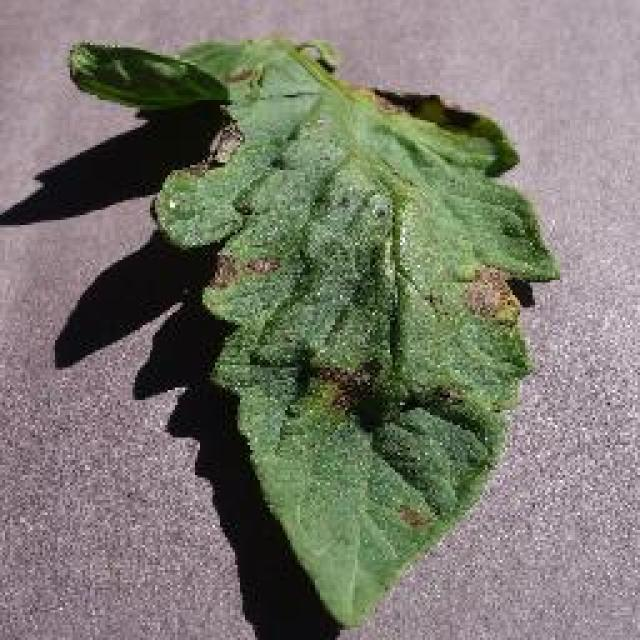Tomato___Early_blight: (67, 41, 571, 632)
